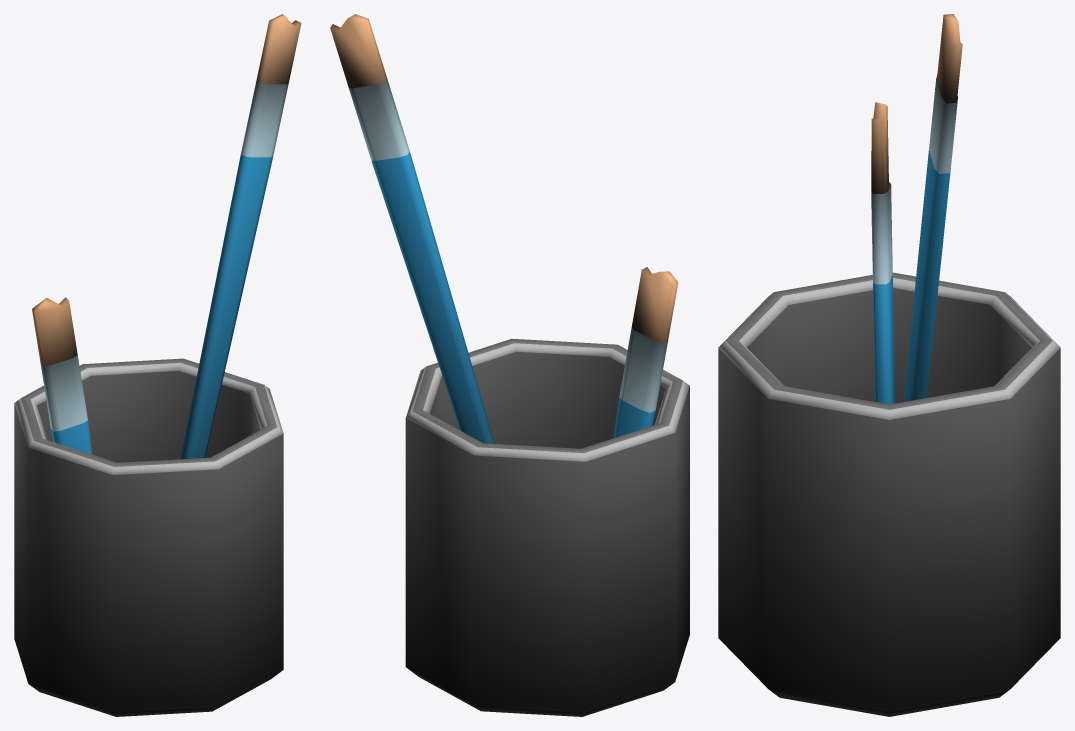
Rendered from artist-pencil-cup.glb.
3 renders of one model, left to right at view 1: azimuth 30°, elevation 25°; view 2: azimuth 150°, elevation 25°; view 3: azimuth 270°, elevation 25°, orthographic. The views are drawn at different scales.
Parts seen in each view (by area): view 1: Object_48; view 2: Object_48; view 3: Object_48.
Boxes of the visible parts, left/top/right/bottom form: Object_48: left=14, top=14, right=301, bottom=716; Object_48: left=330, top=14, right=689, bottom=716; Object_48: left=718, top=14, right=1060, bottom=716.
Size of the model in its own units: 0.2165 by 0.4134 by 0.1749.
1 material, 1 textured.
